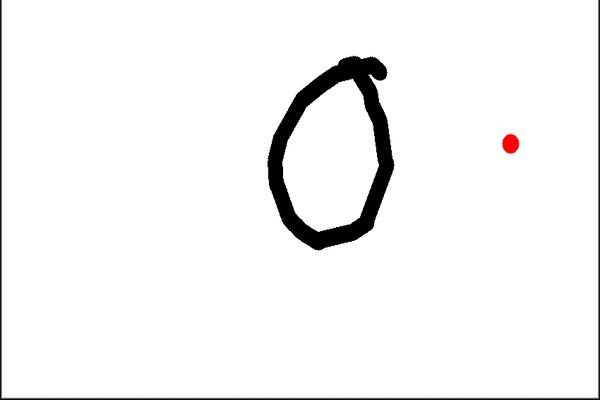O: (257, 41, 408, 261)
